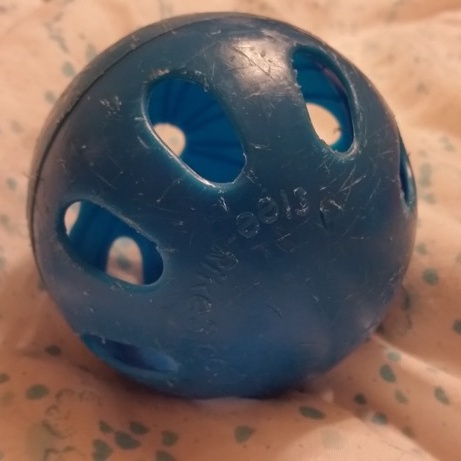blueball: (21, 7, 425, 401)
